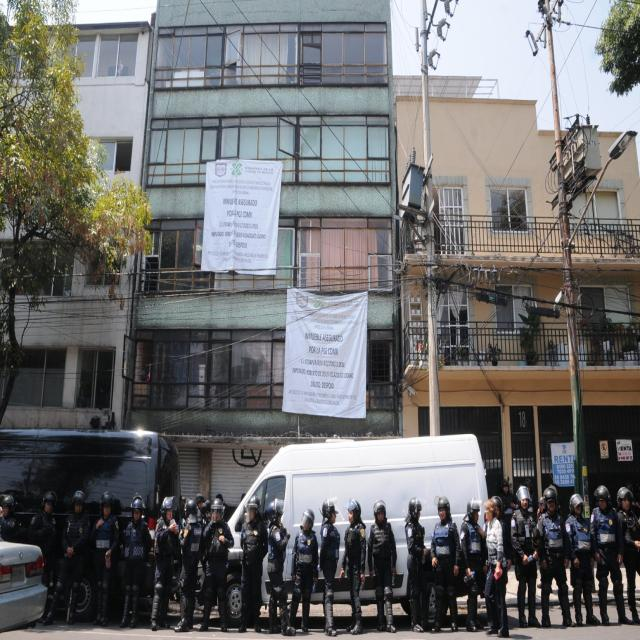stamps: (282, 288, 367, 418), (203, 163, 282, 271), (550, 441, 576, 485)
